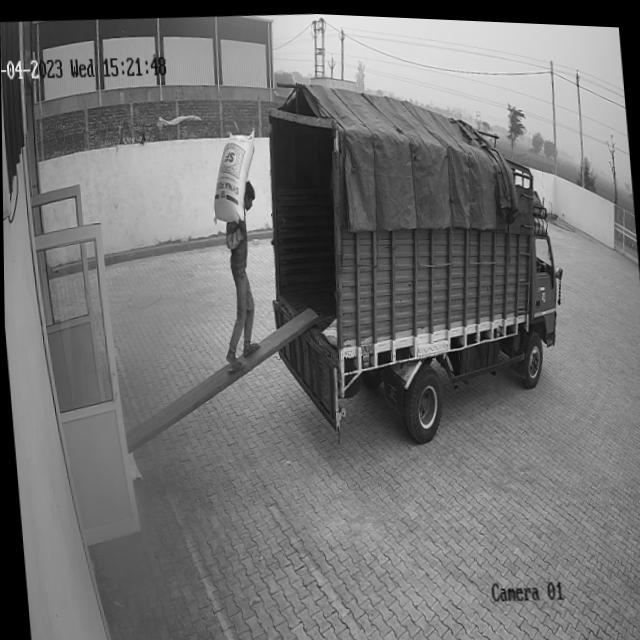sack: (206, 127, 261, 224)
